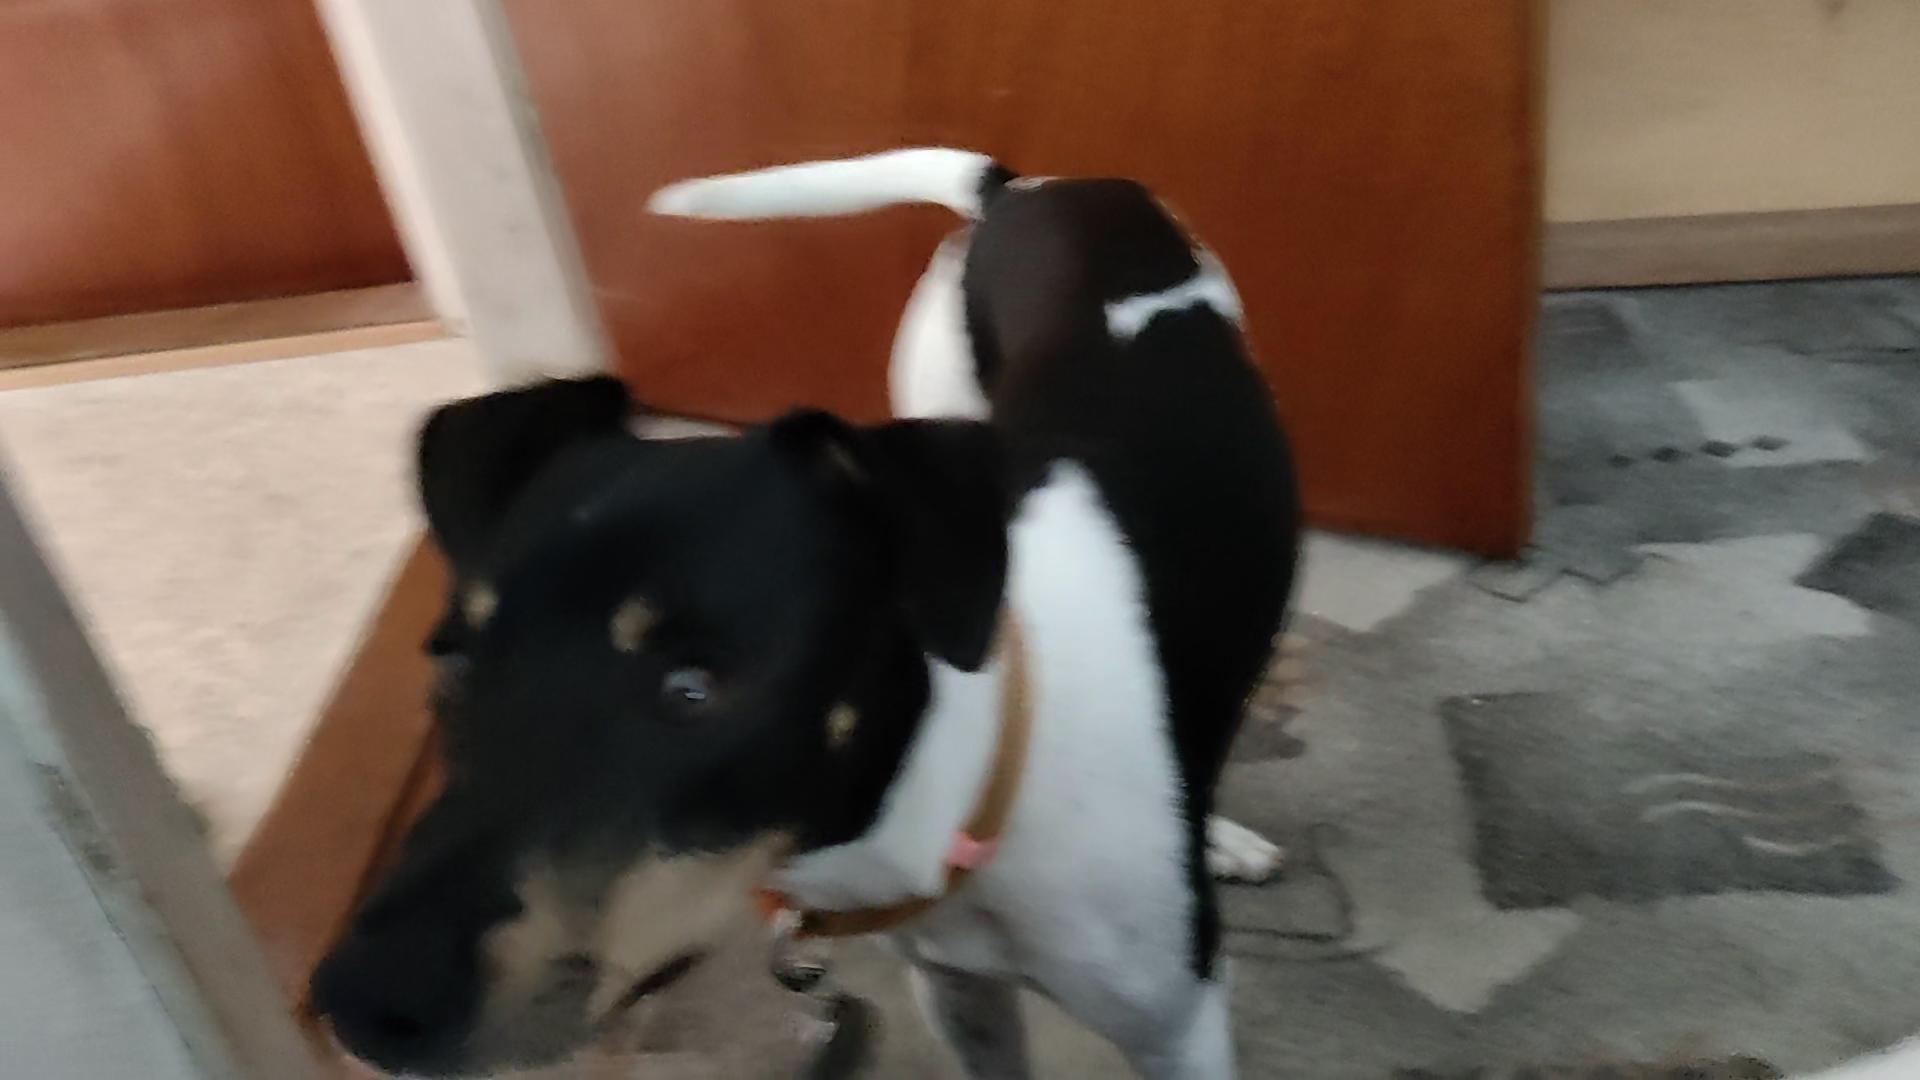Dog: (260, 128, 1328, 1077)
